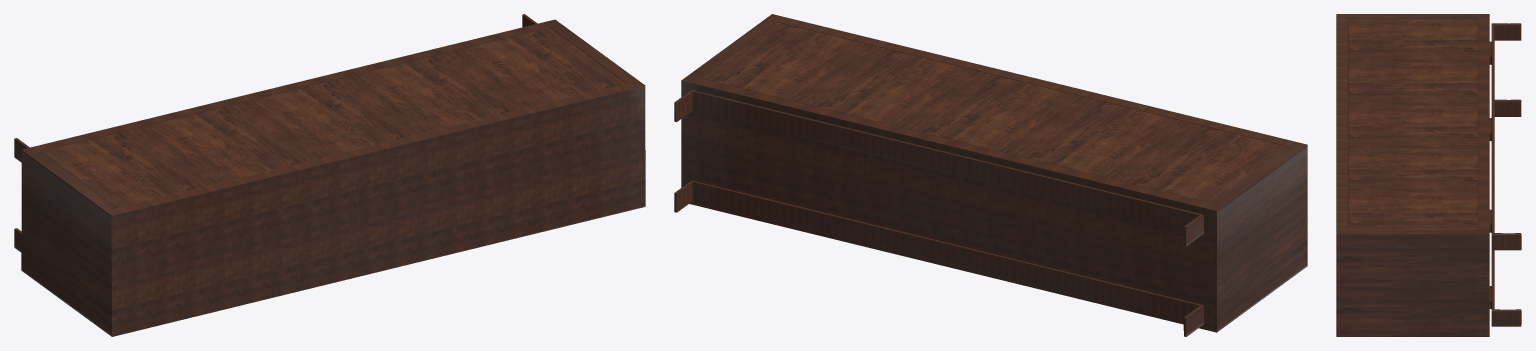
Rendered from raw_model.glb.
The picture shows the model from 3 angles, left to right: view 1: azimuth 30°, elevation 25°; view 2: azimuth 150°, elevation 25°; view 3: azimuth 270°, elevation 25°; orthographic projection. The views are drawn at different scales.
Visible parts, largest first — view 1: raw_model.047; view 2: raw_model.047; view 3: raw_model.047.
Part boxes in pixels (x1,y1,x2,y2): raw_model.047: [14, 14, 645, 336]; raw_model.047: [674, 14, 1307, 336]; raw_model.047: [1336, 14, 1521, 336].
Size of the model in its own units: 1.84 by 0.4 by 0.6526.
1 material, 1 textured.
